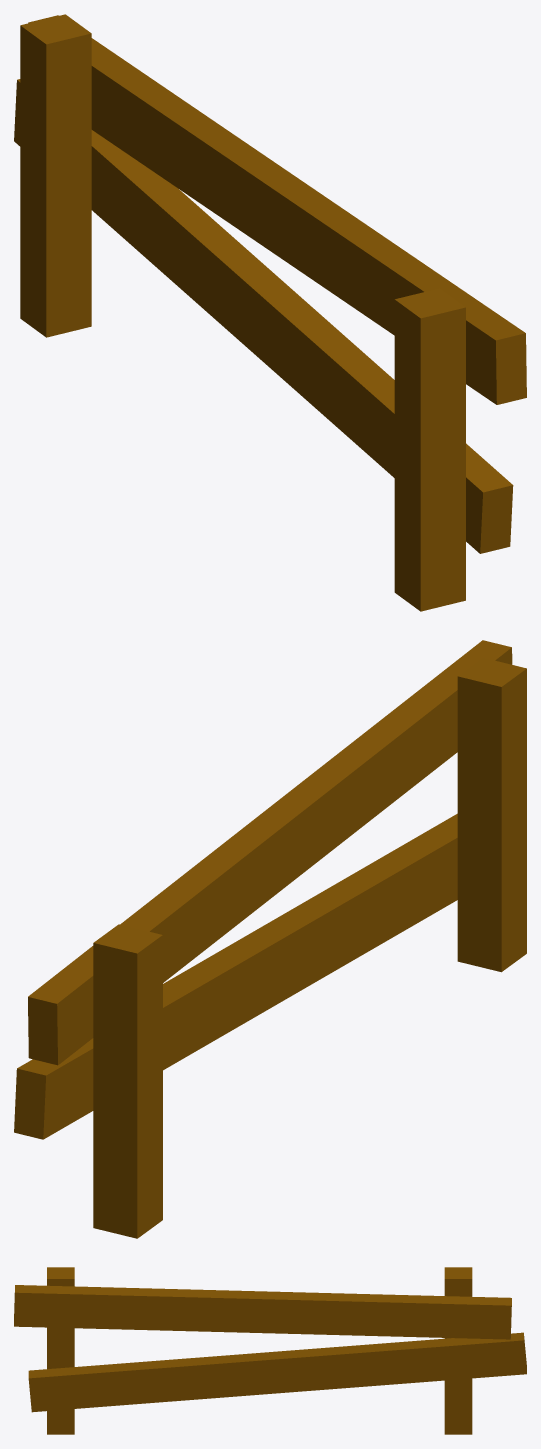
The model's file is wooden_fence.fbx.
3 views of the same model, one above another, from view 1: azimuth 30°, elevation 25°; view 2: azimuth 150°, elevation 25°; view 3: azimuth 270°, elevation 25° (orthographic). The views are drawn at different scales.
Parts seen in each view (by area): view 1: wooden_fence; view 2: wooden_fence; view 3: wooden_fence.
Boxes of the visible parts, x1=… form: wooden_fence: x1=14, y1=14, x2=526, y2=611; wooden_fence: x1=14, y1=640, x2=526, y2=1238; wooden_fence: x1=14, y1=1267, x2=526, y2=1434.
Bounding box in the file's own units: 44.75 × 166 × 497.
